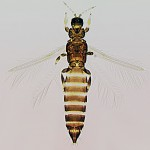Thripidae: (6, 1, 150, 143)
